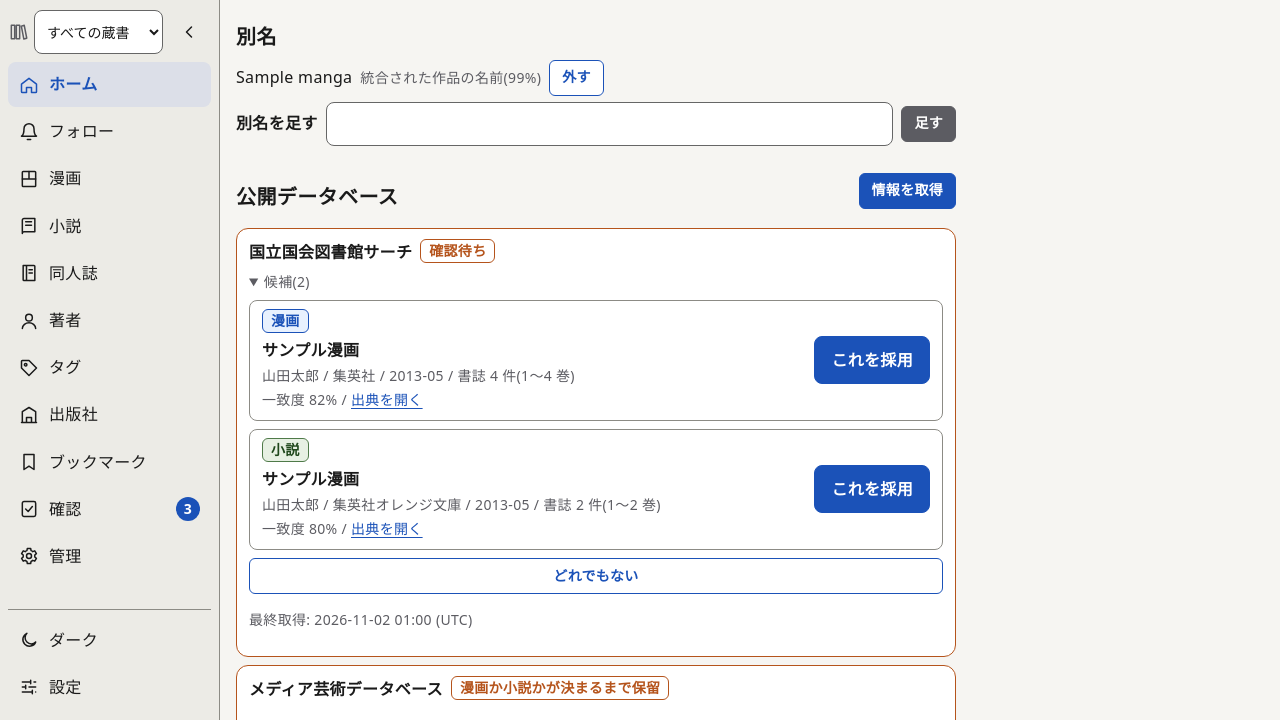
公開データベースの情報(#50) › 確認待ちの候補を選ぶと反映され、出所が公開データベースになる。失敗した取得元はその理由が出る
(page scrolled)
Expected: the text "確認待ち" is shown, 420,238 -> 496,263
Expected: the list item with aria-label "メディア芸術データベースとの連携" shows "漫画か小説かが決まるまで保留", 460,678 -> 660,697
Click the button with aria-label "サンプル漫画(漫画・集英社) を採用": (872, 360) 814,336 -> 930,384
(page scrolled)
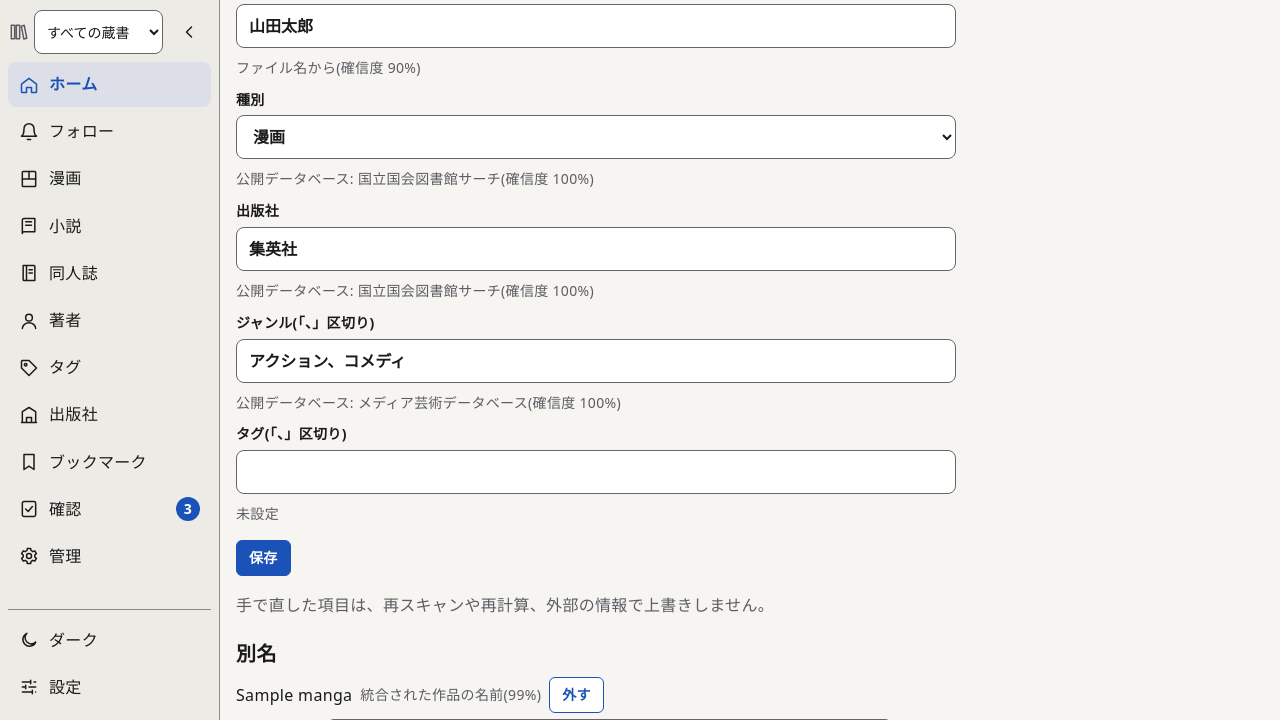
Expected: the dropdown labelled "種別" shows "漫画", 236,115 -> 956,159
Expected: the field labelled "出版社" holds "集英社", 236,227 -> 956,271
Expected: the 1st text "公開データベース: 国立国会図書館サーチ(確信度 100%)" is shown, 236,169 -> 594,188
